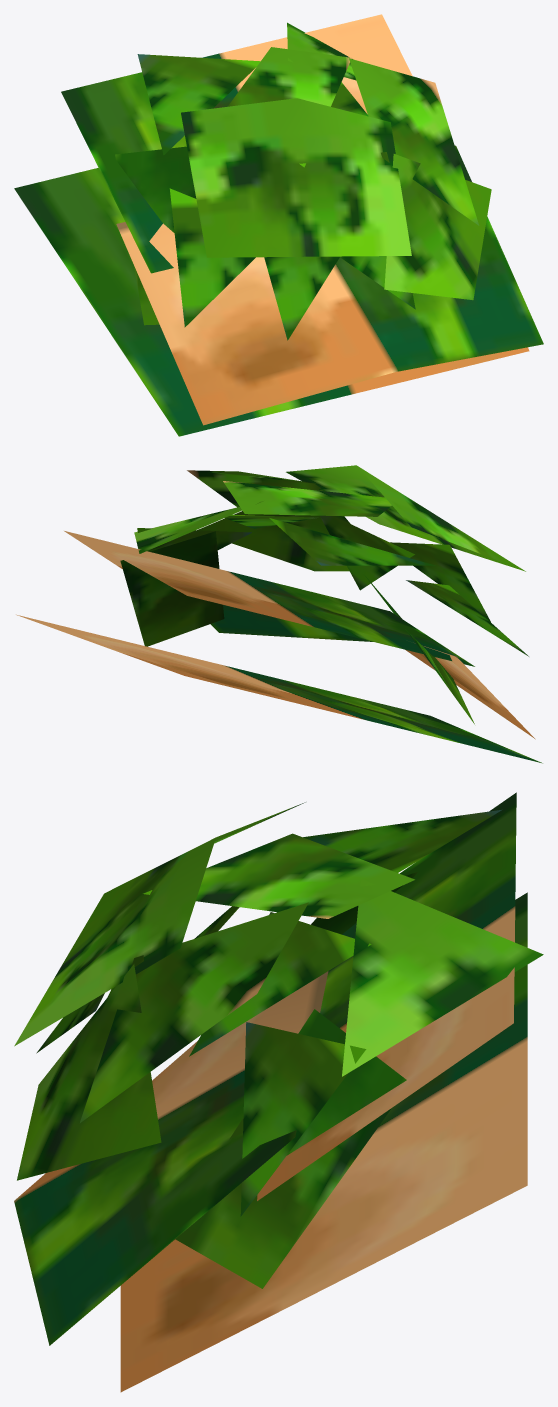
The model's file is fg_bushD_2_ye.dae.
The picture shows the model from 3 angles, top to bottom: view 1: azimuth 30°, elevation 25°; view 2: azimuth 150°, elevation 25°; view 3: azimuth 270°, elevation 25°; orthographic projection. The views are drawn at different scales.
Parts seen in each view (by area): view 1: fg_bushD_2_ye; view 2: fg_bushD_2_ye; view 3: fg_bushD_2_ye.
Part boxes in pixels (x1,y1,x2,y2): fg_bushD_2_ye: (14, 14, 543, 436); fg_bushD_2_ye: (16, 465, 542, 763); fg_bushD_2_ye: (14, 792, 543, 1392).
Bounding box in the file's own units: 47.83 × 31.26 × 36.53.
1 material, 1 textured.
